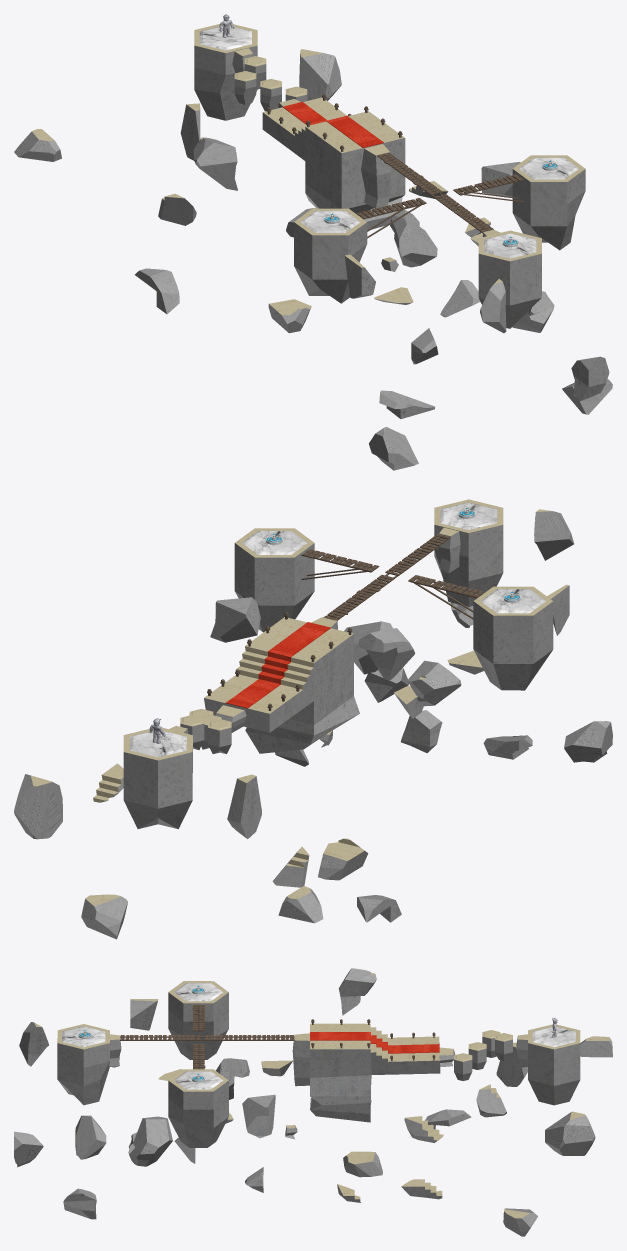
The picture shows the model from 3 angles, top to bottom: view 1: azimuth 30°, elevation 25°; view 2: azimuth 150°, elevation 25°; view 3: azimuth 270°, elevation 25°; orthographic projection. The views are drawn at different scales.
Parts seen in each view (by area): view 1: Cube.010, Cylinder.004, Cylinder.005, Cylinder.006, Cylinder.003, Cube.031_cell.061, Cube.031_cell.046, Cube.031_cell.045, Cube.031_cell.032, Cube.033, Cube.031_cell.011, Cube.031_cell.044 (+13 smaller); view 2: Cube.010, Cylinder.005, Cylinder.006, Cylinder.004, Cylinder.003, Cube.031_cell.061, Cube.033, Cube.031_cell.018, Cube.031_cell.046, Cube.031_cell.070, Cube.031_cell.045, Cube.031_cell.039 (+13 smaller); view 3: Cube.010, Cylinder.006, Cylinder.004, Cylinder.003, Cylinder.005, Cube.031_cell.061, Cube.031_cell, Cube.031_cell.018, Cube.033, Cube.031_cell.032, Cube.031_cell.045, Cube.031_cell.054 (+16 smaller).
Boxes of the visible parts, x1,y1,x2,y2 form: Cube.010: [262, 97, 405, 229]; Cylinder.004: [512, 155, 585, 250]; Cylinder.005: [294, 208, 367, 303]; Cylinder.006: [194, 24, 257, 120]; Cylinder.003: [478, 229, 541, 328]; Cube.031_cell.061: [299, 49, 341, 100]; Cube.031_cell.046: [390, 209, 437, 267]; Cube.031_cell.045: [193, 137, 237, 190]; Cube.031_cell.032: [369, 427, 418, 470]; Cube.033: [283, 101, 383, 147]; Cube.031_cell.011: [571, 356, 609, 401]; Cube.031_cell.044: [134, 268, 179, 314]; Cube.010: [204, 617, 359, 753]; Cylinder.005: [473, 586, 553, 690]; Cylinder.006: [123, 726, 192, 829]; Cylinder.004: [234, 528, 314, 632]; Cylinder.003: [434, 499, 503, 606]; Cube.031_cell.061: [14, 774, 62, 839]; Cube.033: [226, 622, 330, 708]; Cube.031_cell.018: [210, 597, 260, 642]; Cube.031_cell.046: [359, 628, 415, 682]; Cube.031_cell.070: [227, 774, 261, 838]; Cube.031_cell.045: [407, 660, 461, 706]; Cube.031_cell.039: [81, 894, 127, 939]; Cube.010: [292, 1023, 455, 1122]; Cylinder.006: [516, 1024, 580, 1105]; Cylinder.004: [168, 1069, 228, 1147]; Cylinder.003: [57, 1024, 121, 1105]; Cylinder.005: [168, 981, 228, 1059]; Cube.031_cell.061: [545, 1111, 595, 1155]; Cube.031_cell: [129, 1116, 172, 1166]; Cube.031_cell.018: [242, 1094, 275, 1138]; Cube.033: [310, 1032, 439, 1053]; Cube.031_cell.032: [75, 1115, 106, 1159]; Cube.031_cell.045: [338, 968, 376, 1015]; Cube.031_cell.054: [343, 1151, 382, 1177].
Size of the model in its own units: 695 by 470 by 1372.
7 materials, 7 textured.
